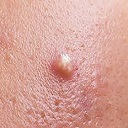Carcinoma: (48, 52, 82, 81)
